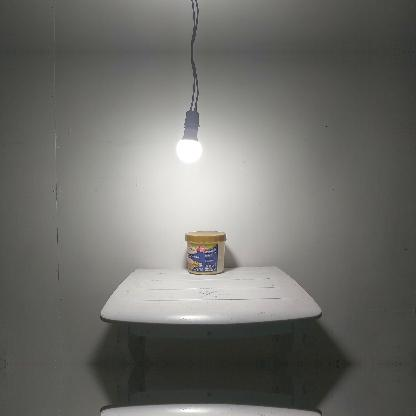Lady-s-Choice: (184, 230, 226, 275)
